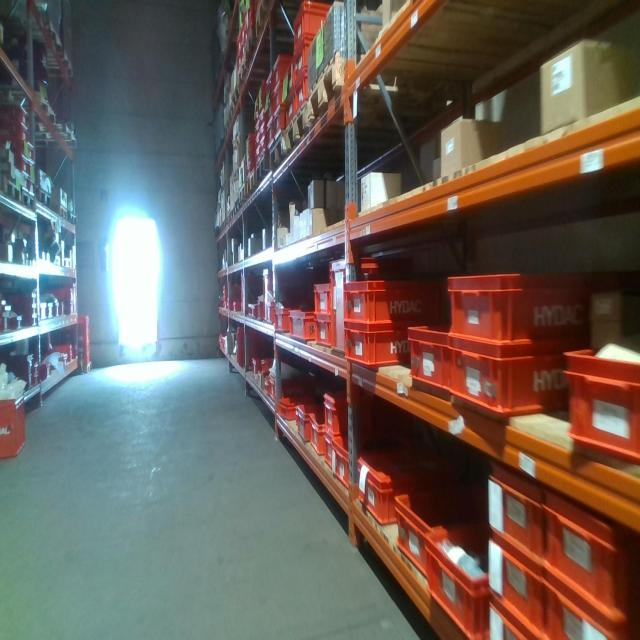pallet: (309, 50, 365, 129), (1, 82, 57, 129), (7, 16, 65, 52), (20, 116, 77, 152), (285, 96, 310, 160), (34, 53, 72, 81), (252, 1, 280, 38), (1, 172, 23, 207), (270, 130, 286, 173), (244, 15, 259, 60), (236, 51, 252, 91), (35, 182, 53, 215), (20, 186, 36, 215), (52, 204, 69, 225), (259, 151, 268, 190), (248, 168, 257, 199), (238, 176, 246, 210), (67, 210, 80, 226)
small_load_carrier: (441, 267, 608, 346), (544, 486, 636, 624), (324, 258, 428, 363), (444, 334, 562, 424), (559, 339, 638, 466), (356, 446, 451, 526), (422, 531, 485, 638), (480, 534, 547, 631), (484, 457, 545, 563), (393, 489, 447, 585), (340, 277, 442, 327), (544, 583, 632, 637), (344, 327, 428, 372), (409, 321, 454, 403), (317, 385, 375, 438), (289, 3, 340, 56), (484, 597, 542, 640), (1, 390, 29, 464), (260, 264, 286, 325), (332, 440, 357, 487), (293, 403, 319, 447), (287, 307, 318, 343), (310, 273, 335, 317), (266, 373, 303, 398), (271, 52, 289, 96), (2, 103, 28, 132), (294, 39, 309, 89), (308, 415, 327, 454), (281, 59, 294, 110), (271, 79, 288, 118), (310, 316, 336, 340), (325, 437, 339, 480), (279, 392, 302, 415), (244, 130, 255, 178), (13, 350, 32, 377), (270, 299, 287, 328), (265, 70, 274, 123), (297, 75, 309, 112), (249, 353, 262, 387), (15, 287, 39, 305), (287, 94, 298, 133), (1, 130, 30, 144), (13, 377, 36, 392), (50, 286, 77, 297), (258, 82, 268, 111), (244, 298, 260, 316), (19, 298, 38, 313), (277, 109, 286, 139), (19, 316, 37, 331), (40, 361, 52, 382), (12, 156, 26, 173), (267, 123, 275, 152), (12, 144, 30, 156), (26, 141, 37, 159), (64, 304, 76, 319), (76, 318, 90, 326), (34, 358, 40, 371)
